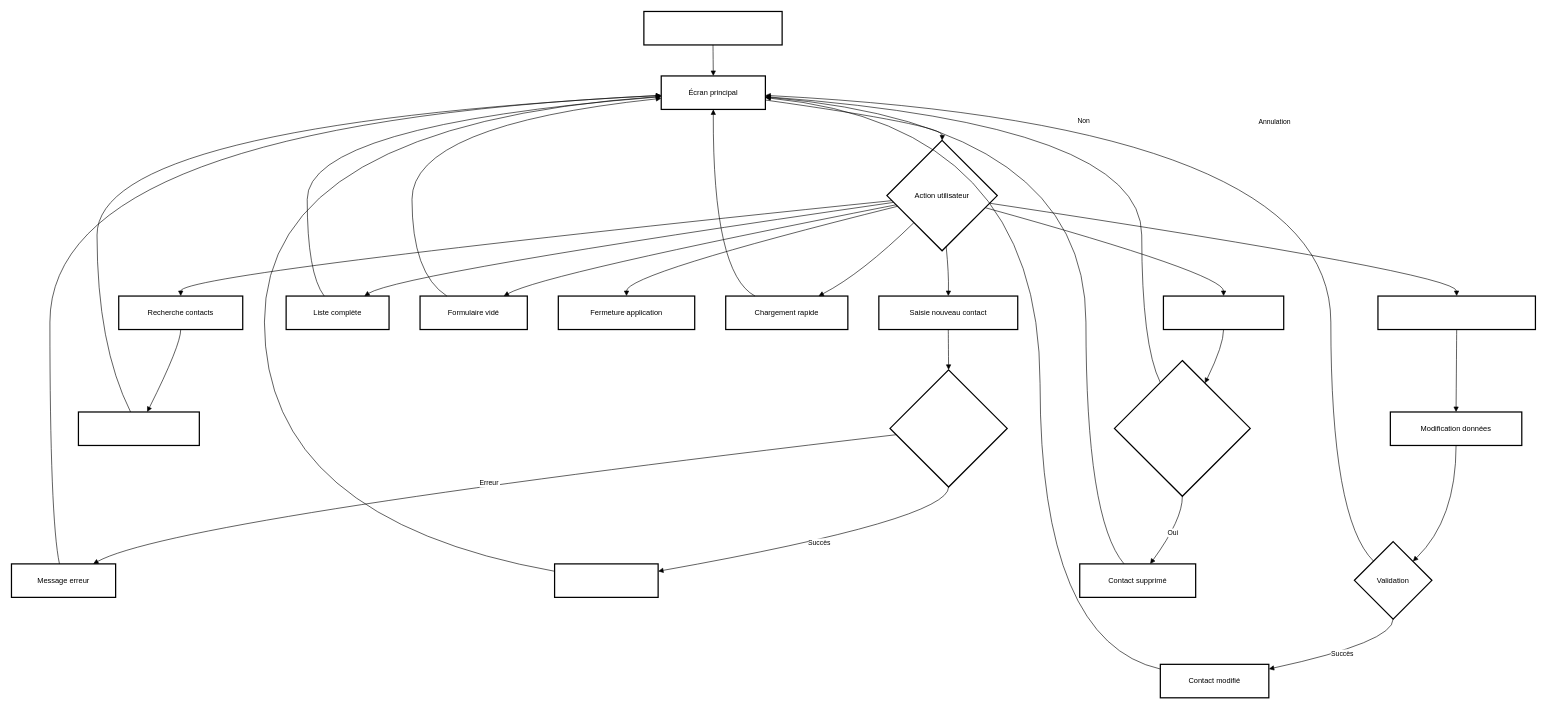
The diagram is 1546 pixels wide and 709 high, and some of its shapes have lost their labels. Here are the shapes that lost their labels. From the top down, the box of each, then its label:
(643, 11, 782, 45): Démarrage application
(1162, 295, 1284, 330): Boîte confirmation
(1377, 295, 1536, 330): Pré-remplissage formulaire
(78, 411, 200, 446): Affichage résultats
(889, 369, 1008, 487): Validation données
(1114, 360, 1251, 497): Confirmer suppression?
(554, 563, 658, 598): Contact ajouté
